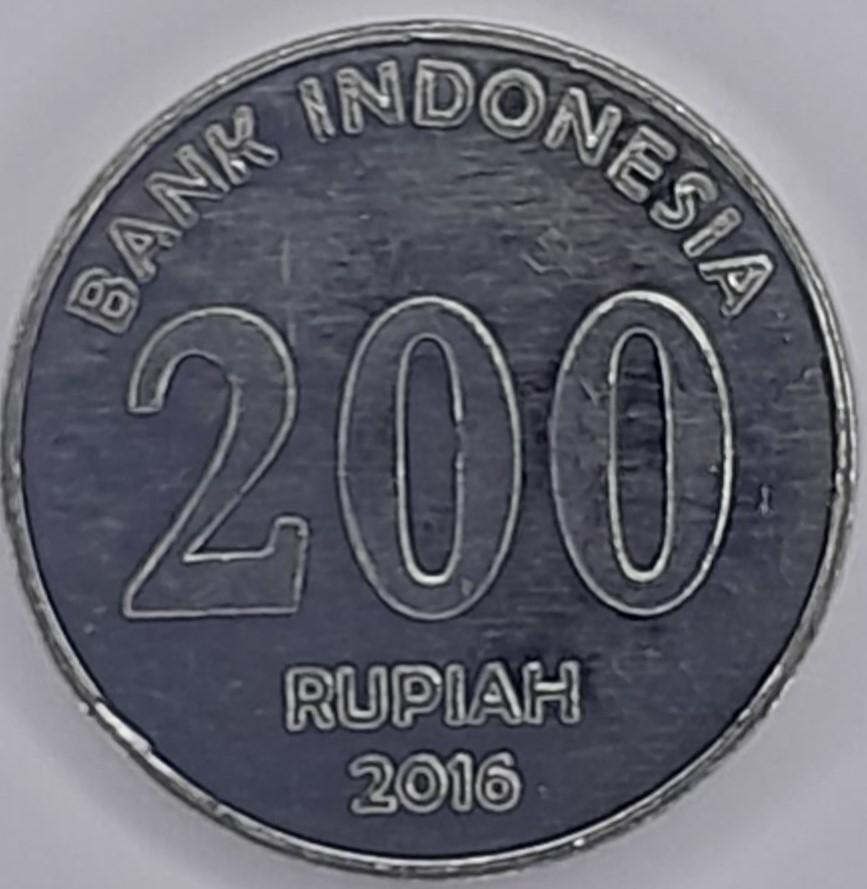coin_200_e2016: (0, 15, 867, 889)
